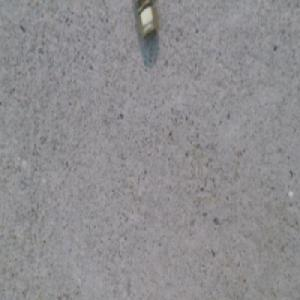BoltNutSet: (136, 2, 156, 39)
